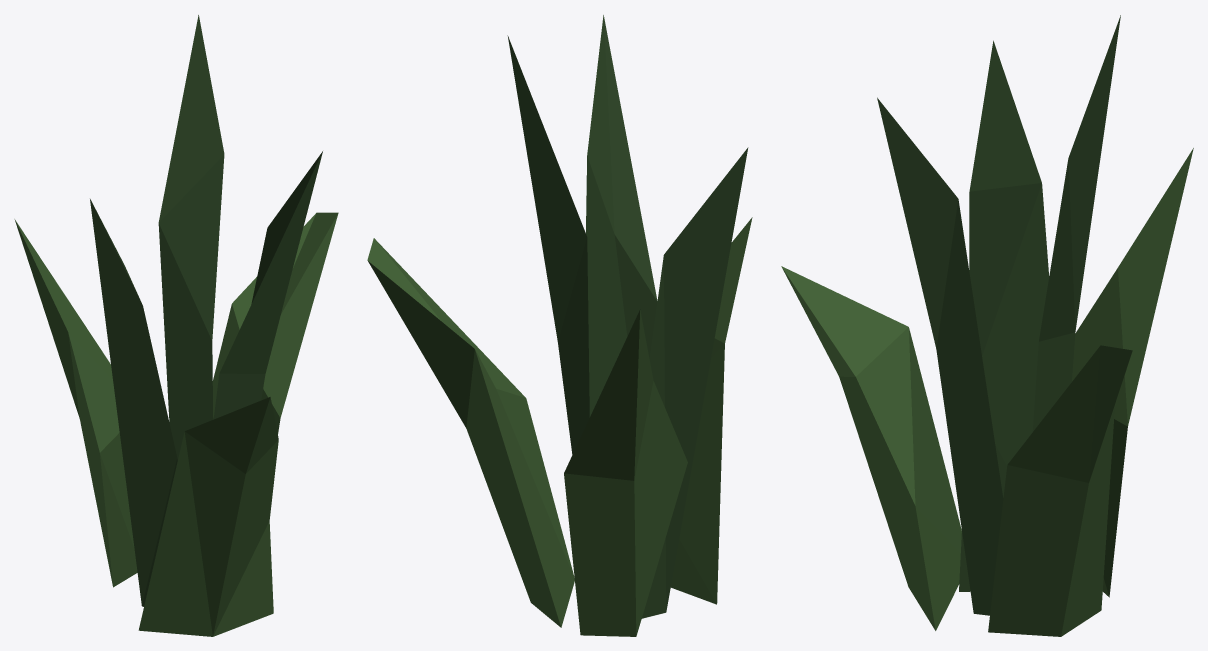
Rendered from Grass_03.glb.
3 views of the same model, side by side, from view 1: azimuth 30°, elevation 25°; view 2: azimuth 150°, elevation 25°; view 3: azimuth 270°, elevation 25° (orthographic). The views are drawn at different scales.
Visible parts, largest first — view 1: Grass_03; view 2: Grass_03; view 3: Grass_03.
Part boxes in pixels (x1,y1,x2,y2): Grass_03: [14, 15, 338, 636]; Grass_03: [367, 15, 752, 636]; Grass_03: [781, 15, 1193, 636].
Bounding box in the file's own units: 0.2998 × 0.523 × 0.3153.
1 material, 1 textured.
